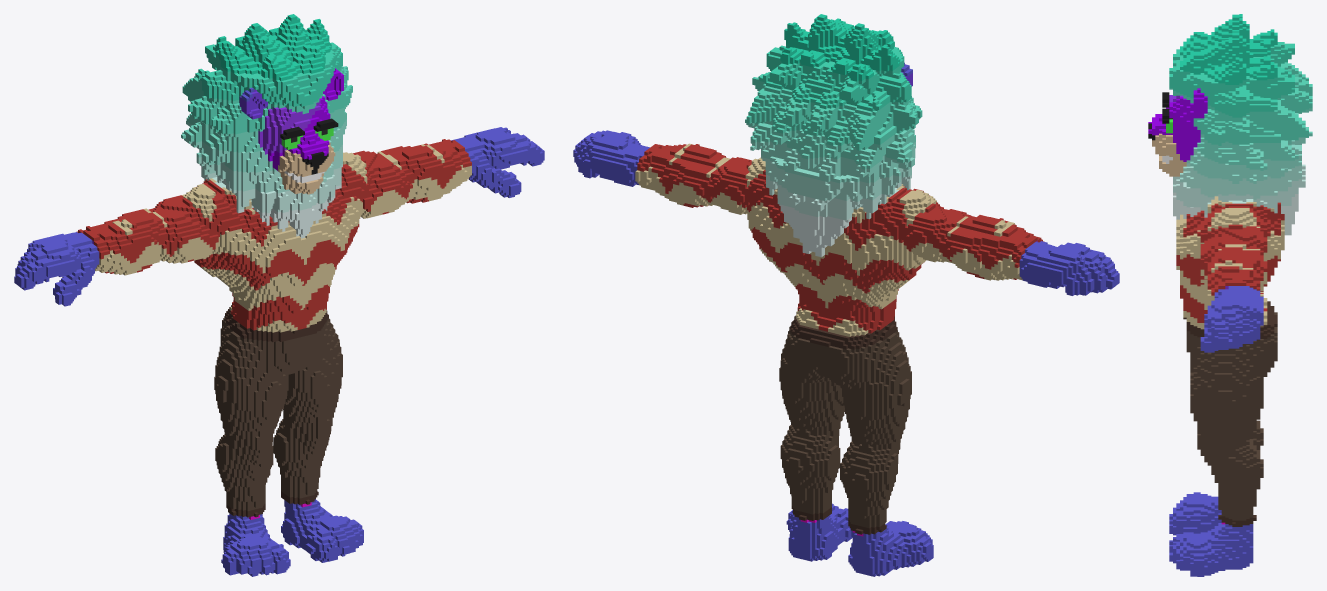
The model's file is 1042-DLw0p6G5.fbx.
3 views of the same model, side by side, from view 1: azimuth 30°, elevation 25°; view 2: azimuth 150°, elevation 25°; view 3: azimuth 270°, elevation 25° (orthographic). The views are drawn at different scales.
Visible parts, largest first — view 1: big_smile; view 2: big_smile; view 3: big_smile.
Part boxes in pixels (left/top/right/bottom): big_smile: left=14, top=14, right=544, bottom=576; big_smile: left=573, top=14, right=1119, bottom=576; big_smile: left=1148, top=14, right=1312, bottom=576.
Bounding box in the file's own units: 17.2 × 16.5 × 4.7.
5 materials, 5 textured.
